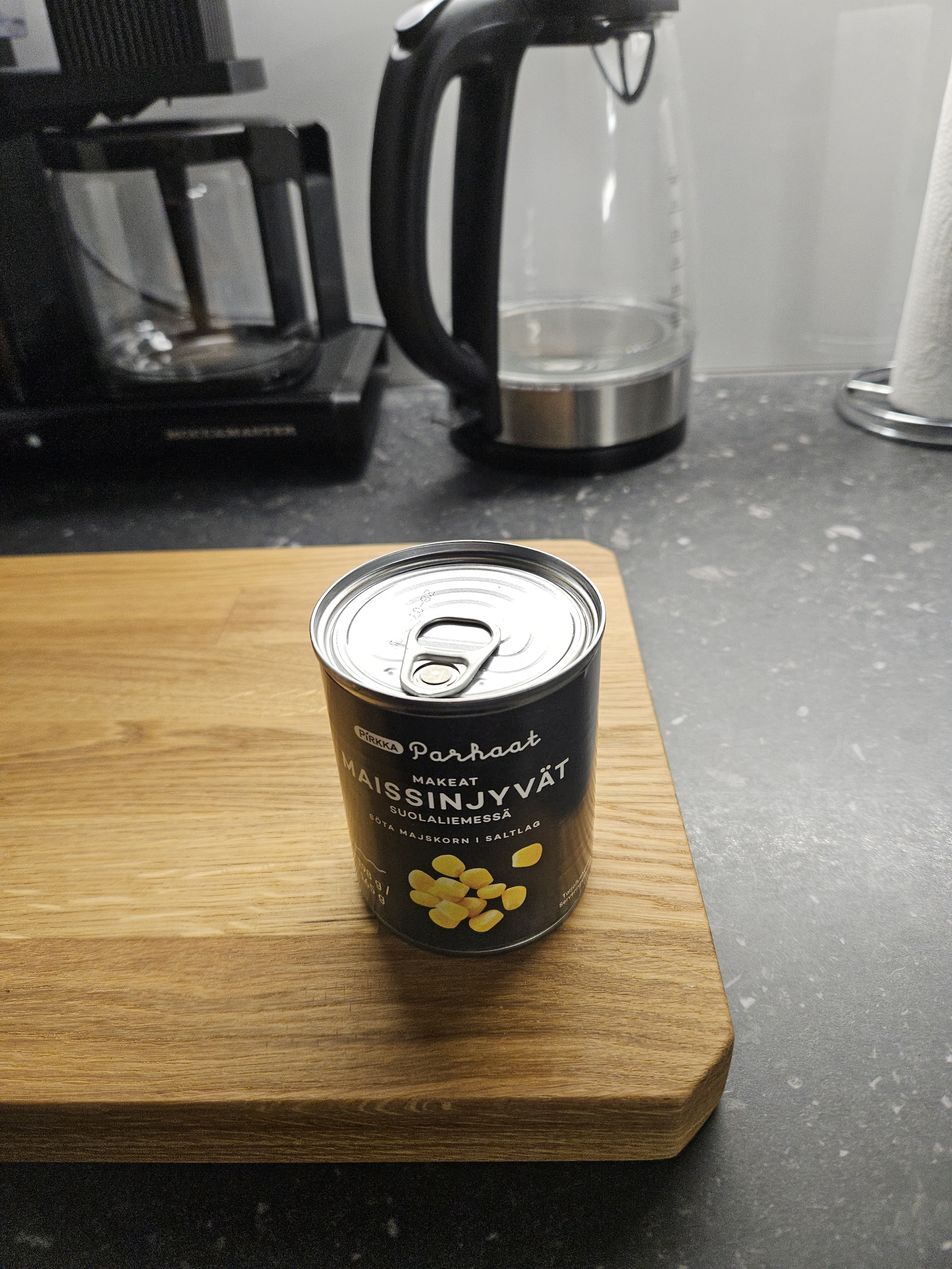Konservburk: (310, 539, 606, 958)
